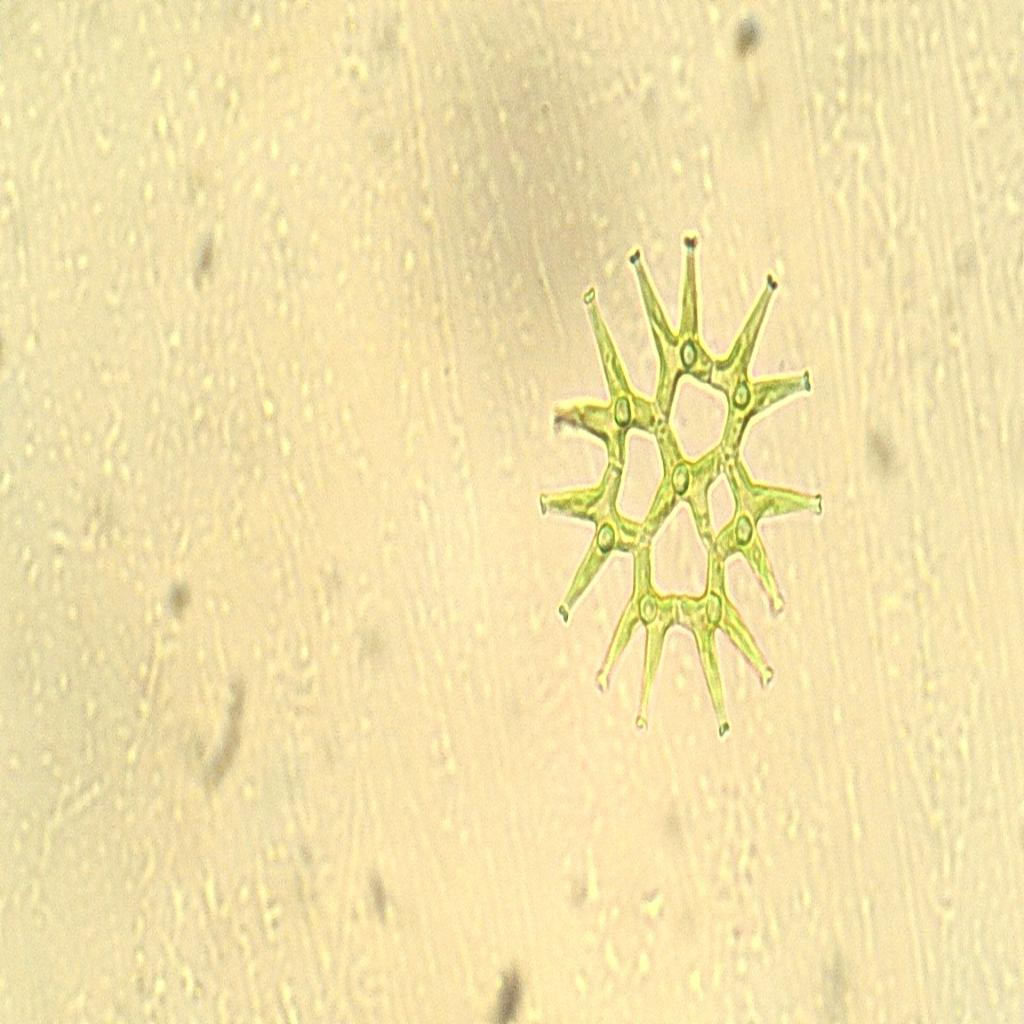Pediastrum_1T: (525, 200, 836, 771)
